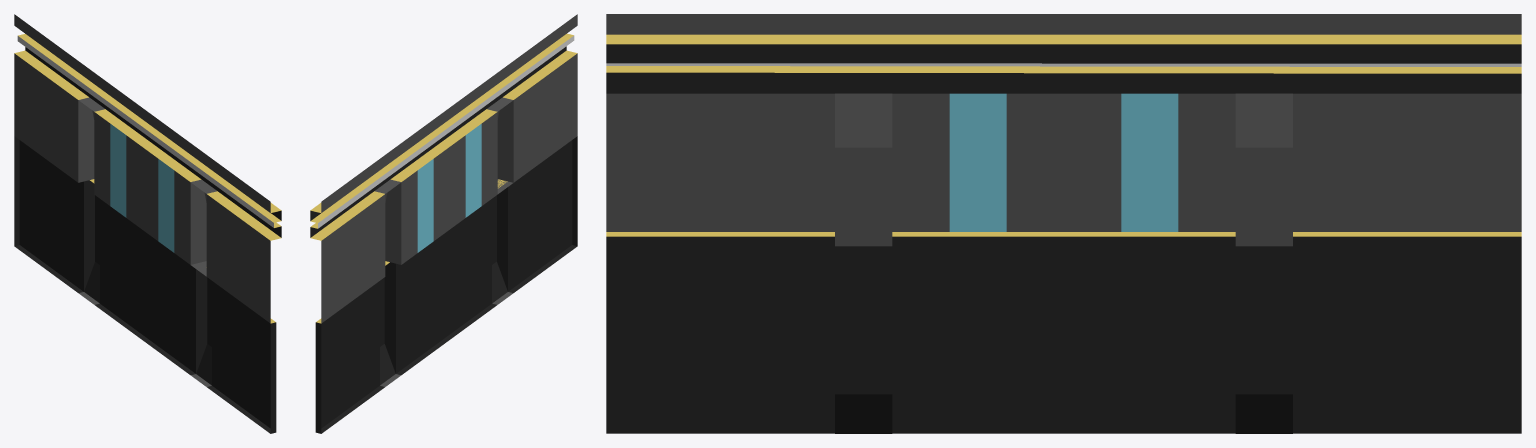
The model's file is Wall.fbx.
The picture shows the model from 3 angles, left to right: view 1: azimuth 30°, elevation 25°; view 2: azimuth 150°, elevation 25°; view 3: azimuth 270°, elevation 25°; orthographic projection. The views are drawn at different scales.
Visible parts, largest first — view 1: Cube; view 2: Cube; view 3: Cube.
Boxes of the visible parts, x1,y1,x2,y2 form: Cube: (14, 14, 281, 433); Cube: (310, 14, 577, 433); Cube: (606, 14, 1521, 433).
Size of the model in its own units: 15.1 by 200 by 400.
